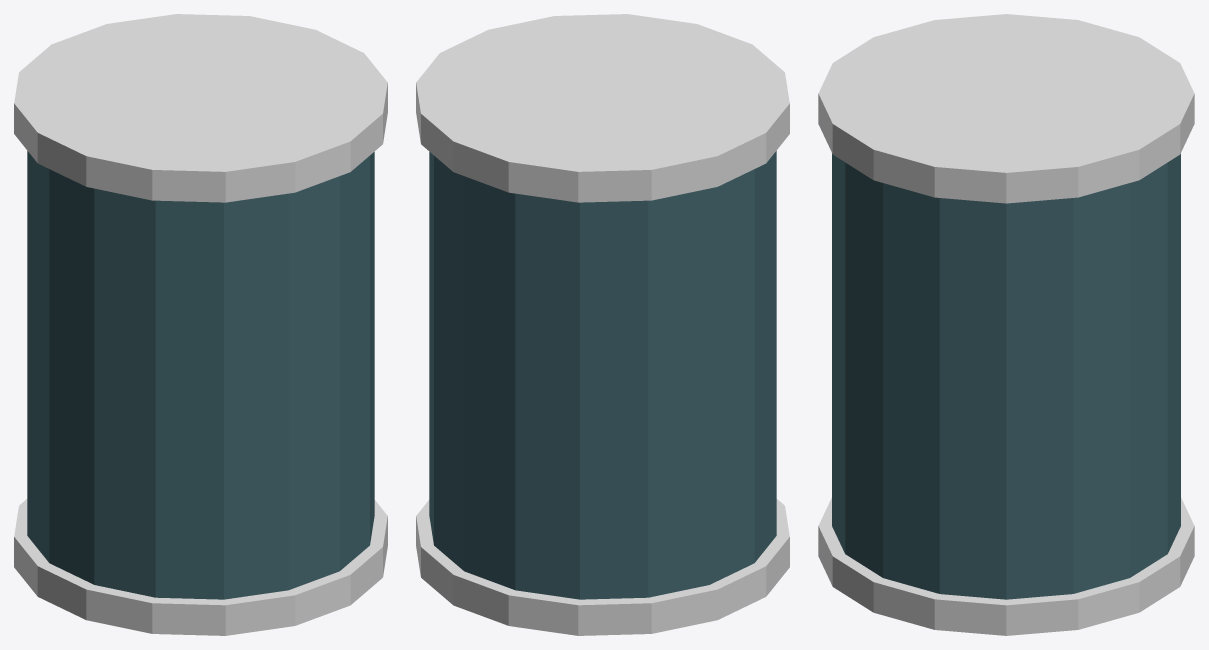
Rendered from i_chickpeapowder.glb.
The picture shows the model from 3 angles, left to right: view 1: azimuth 30°, elevation 25°; view 2: azimuth 150°, elevation 25°; view 3: azimuth 270°, elevation 25°; orthographic projection.
Visible parts, largest first — view 1: Cylinder; view 2: Cylinder; view 3: Cylinder.
Boxes of the visible parts, x1=… form: Cylinder: x1=14, y1=14, x2=387, y2=635; Cylinder: x1=416, y1=14, x2=789, y2=635; Cylinder: x1=818, y1=14, x2=1194, y2=635.
Size of the model in its own units: 0.6317 by 0.8582 by 0.6317.
